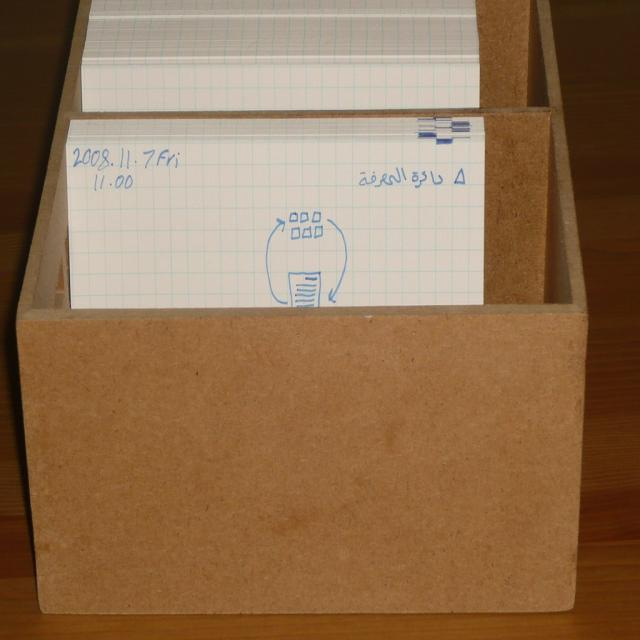Box: (16, 0, 589, 613)
